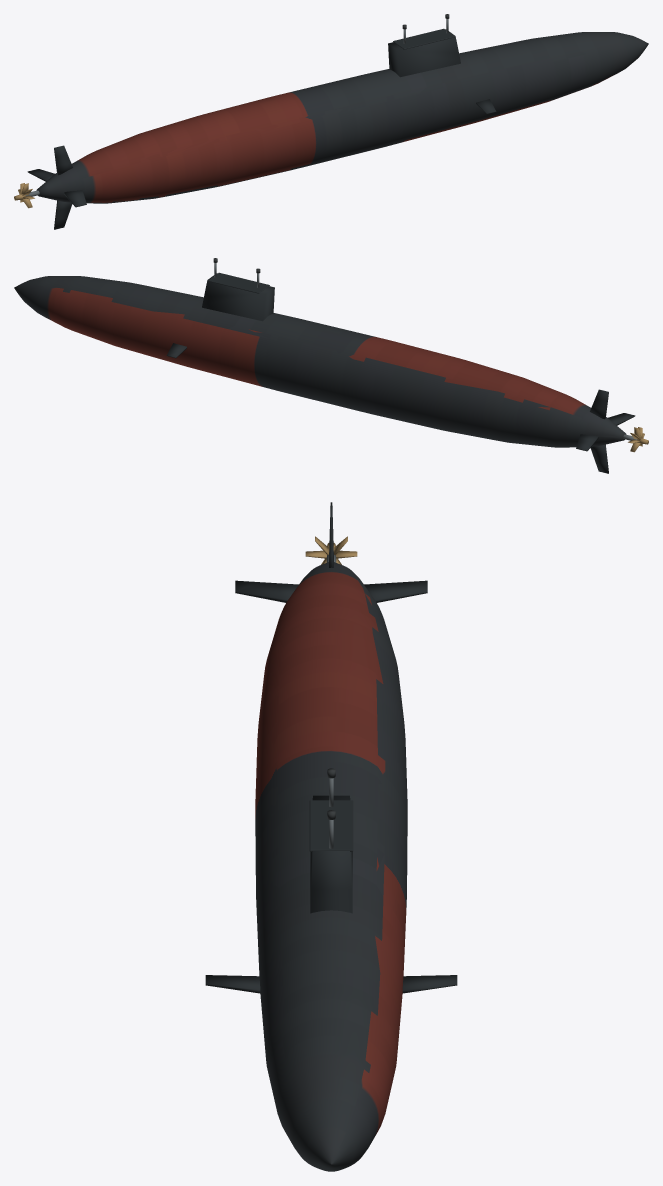
File: CN_SSN_Type091_LOD1.fbx
3 views of the same model, one above another, from view 1: azimuth 30°, elevation 25°; view 2: azimuth 150°, elevation 25°; view 3: azimuth 270°, elevation 25° (orthographic). The views are drawn at different scales.
Parts seen in each view (by area): view 1: CN_SSN_Type091_LOD1; view 2: CN_SSN_Type091_LOD1; view 3: CN_SSN_Type091_LOD1.
Boxes of the visible parts, x1,y1,x2,y2 form: CN_SSN_Type091_LOD1: (14, 14, 648, 229); CN_SSN_Type091_LOD1: (14, 258, 648, 473); CN_SSN_Type091_LOD1: (205, 502, 457, 1171).
Size of the model in its own units: 102 by 17.47 by 18.23.
6 materials, 1 textured.
